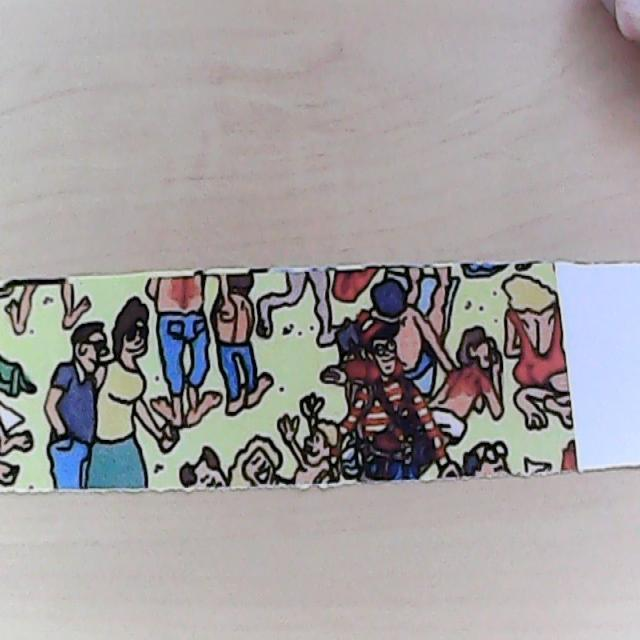waldo: (355, 305, 401, 384)
